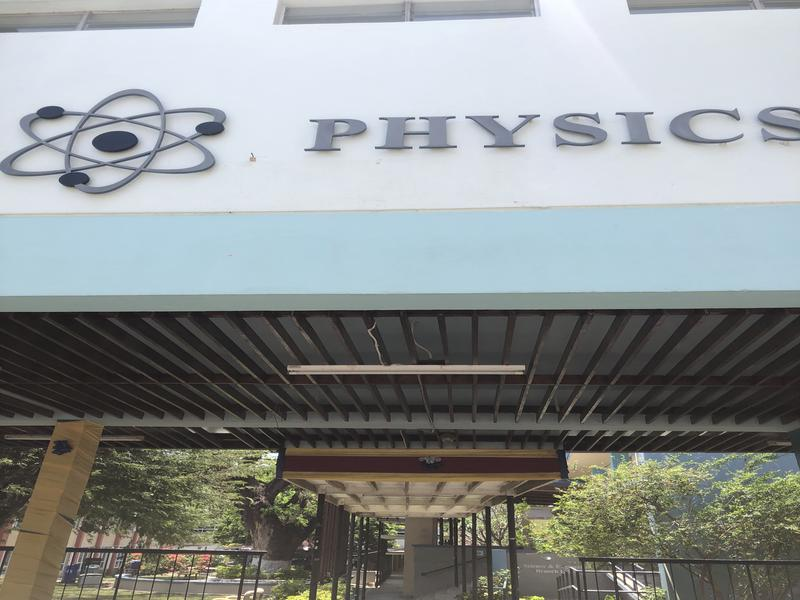18.0053657_-76.7491452_physicssign: (5, 74, 800, 260)
